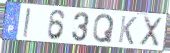3: (70, 11, 90, 43)
6: (47, 10, 66, 42)
I: (22, 7, 32, 39)
K: (117, 15, 138, 47)
Q: (92, 13, 116, 44)
X: (138, 15, 164, 49)
